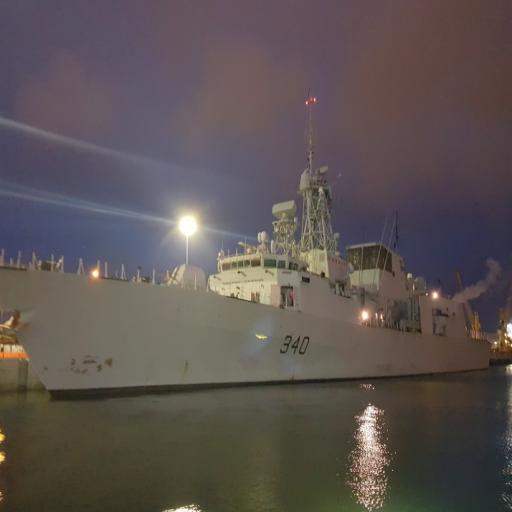Fragata: (1, 91, 494, 406)
